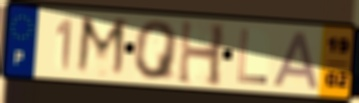1: (55, 18, 74, 71)
A: (271, 29, 323, 91)
H: (176, 18, 228, 89)
L: (235, 27, 270, 86)
M: (73, 13, 130, 80)
Q: (133, 19, 181, 82)
